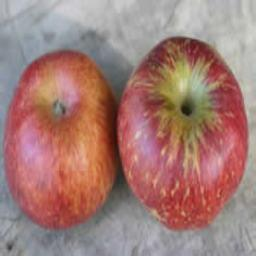apple: (118, 37, 248, 235), (2, 50, 119, 231)
